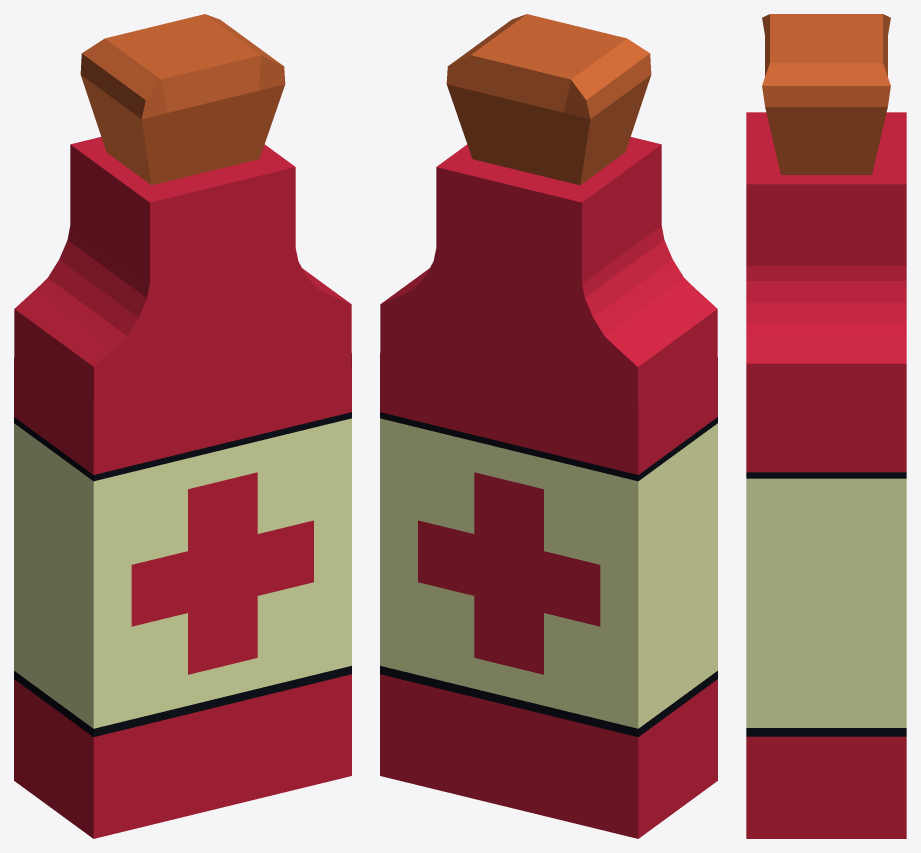
File: DewFlask.fbx
The picture shows the model from 3 angles, left to right: view 1: azimuth 30°, elevation 25°; view 2: azimuth 150°, elevation 25°; view 3: azimuth 270°, elevation 25°; orthographic projection.
Parts seen in each view (by area): view 1: Cube; view 2: Cube; view 3: Cube.
Boxes of the visible parts, left/top/right/bottom form: Cube: left=14, top=14, right=351, bottom=838; Cube: left=380, top=14, right=717, bottom=838; Cube: left=746, top=14, right=906, bottom=838.
Bounding box in the file's own units: 493 × 1335 × 263.
